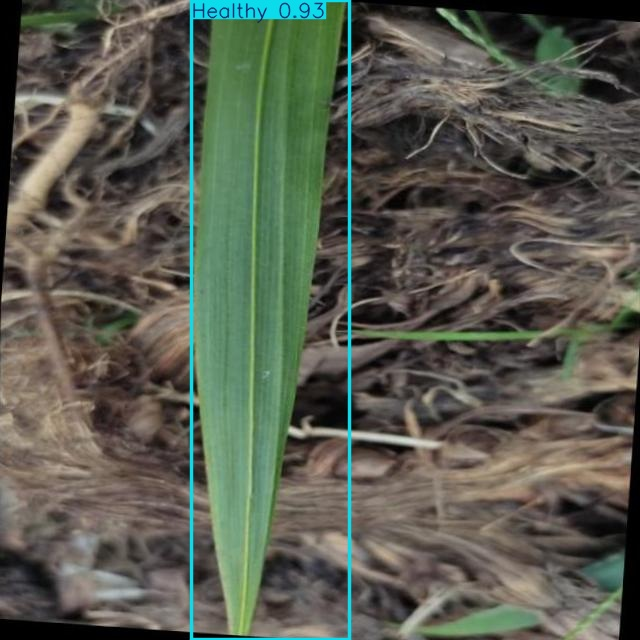Healthy: (191, 0, 349, 639)
